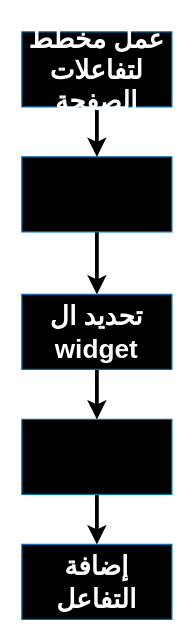
The diagram is 194 pixels wide and 641 high, and some of its shapes have lost their labels. The box of each missing label's shape, as (x1, y1, x2, y2) in pixels:
تحديد البيانات: (21, 156, 172, 232)
عمل التنسيقات: (21, 418, 172, 494)
